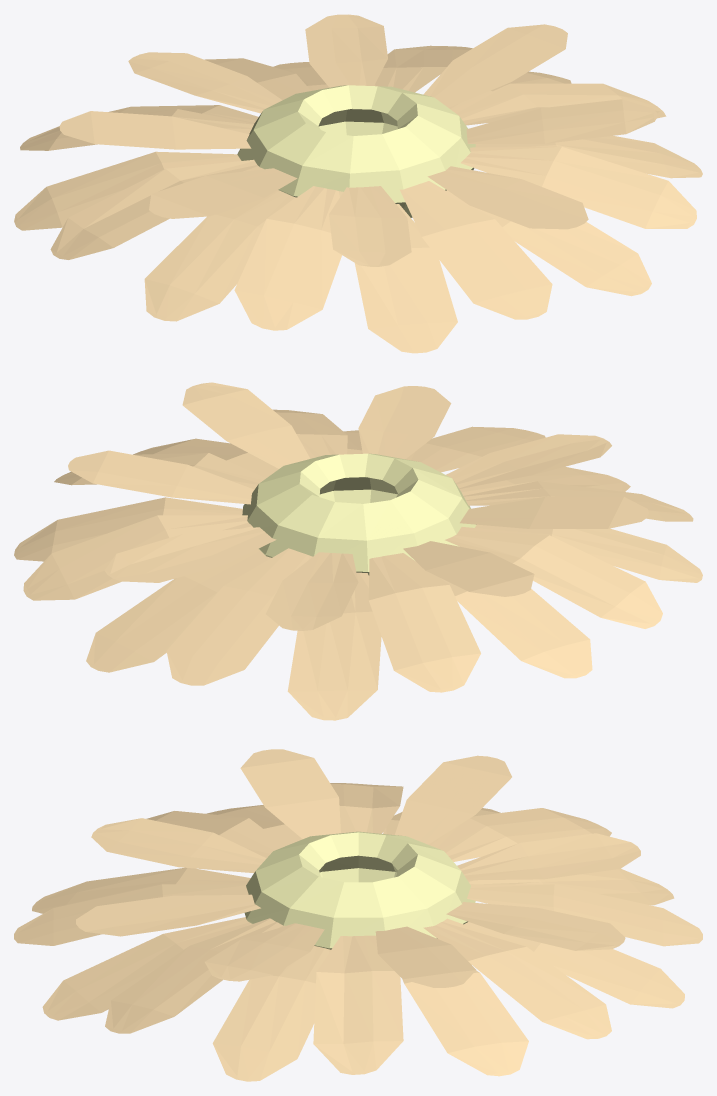
File: Flower1_UV.fbx
3 renders of one model, top to bottom at view 1: azimuth 30°, elevation 25°; view 2: azimuth 150°, elevation 25°; view 3: azimuth 270°, elevation 25°, orthographic.
Parts seen in each view (by area): view 1: Flower1_UVstraighten; view 2: Flower1_UVstraighten; view 3: Flower1_UVstraighten.
Part boxes in pixels (x1,y1,x2,y2): Flower1_UVstraighten: (14,14,702,353); Flower1_UVstraighten: (14,382,702,720); Flower1_UVstraighten: (14,749,702,1081).
Bounding box in the file's own units: 1.31 × 0.2012 × 1.31.
